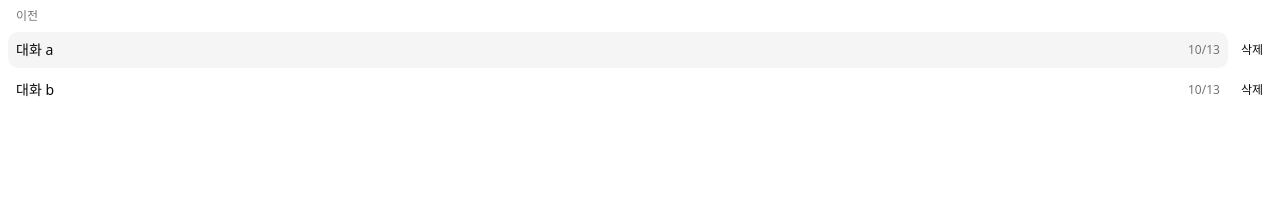
turn_in_progress displays the existing message under its item without removal
Click the button "삭제" in the row of "대화 a" at (1252, 50), box x1=1232 y1=38 x2=1272 y2=62
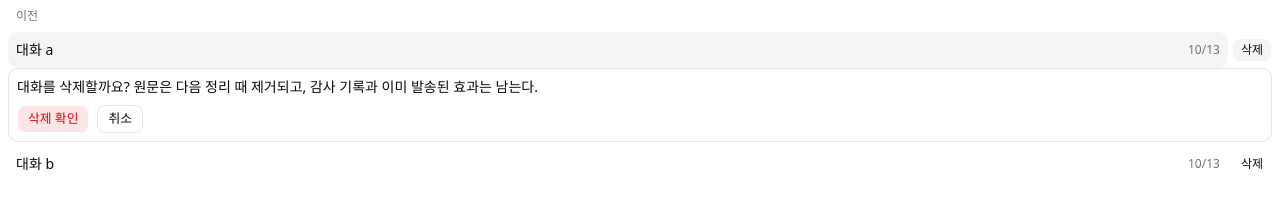
Click the button "삭제 확인" at (53, 119), box x1=17 y1=105 x2=89 y2=133
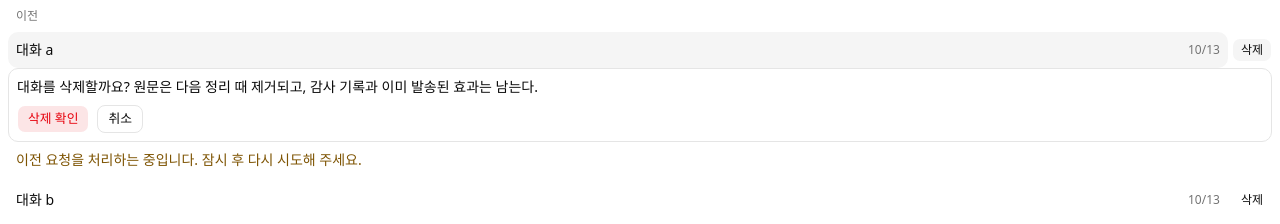
Check: the message reads "이전 요청을 처리하는 중입니다. 잠시 후 다시 시도해 주세요.", box x1=16 y1=150 x2=362 y2=169
